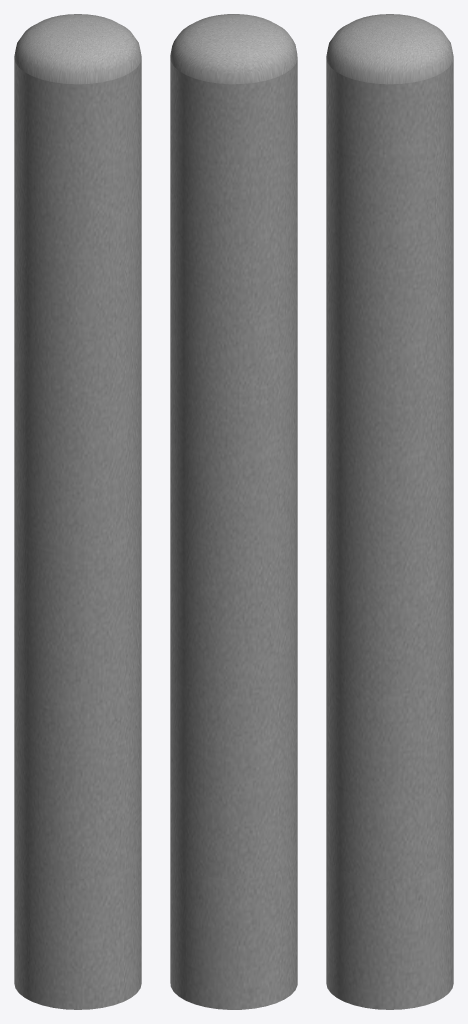
The model's file is body.glb.
3 views of the same model, side by side, from view 1: azimuth 90°, elevation 25°; view 2: azimuth 210°, elevation 25°; view 3: azimuth 270°, elevation 25° (orthographic).
Visible parts, largest first — view 1: body; view 2: body; view 3: body.
Boxes of the visible parts, x1,y1,x2,y2 form: body: [14, 14, 141, 1009]; body: [170, 14, 297, 1009]; body: [326, 14, 453, 1009].
Bounding box in the file's own units: 6.6 × 54.61 × 6.6.
Materials: 1 (1 with a texture image).
